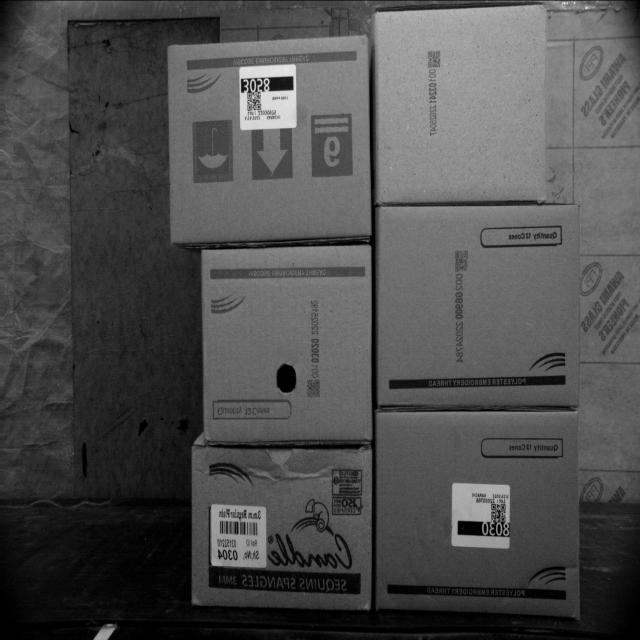cardboxes: (166, 35, 368, 243), (374, 206, 580, 407), (375, 414, 580, 612), (200, 245, 374, 442), (376, 5, 548, 202), (189, 443, 373, 612)
